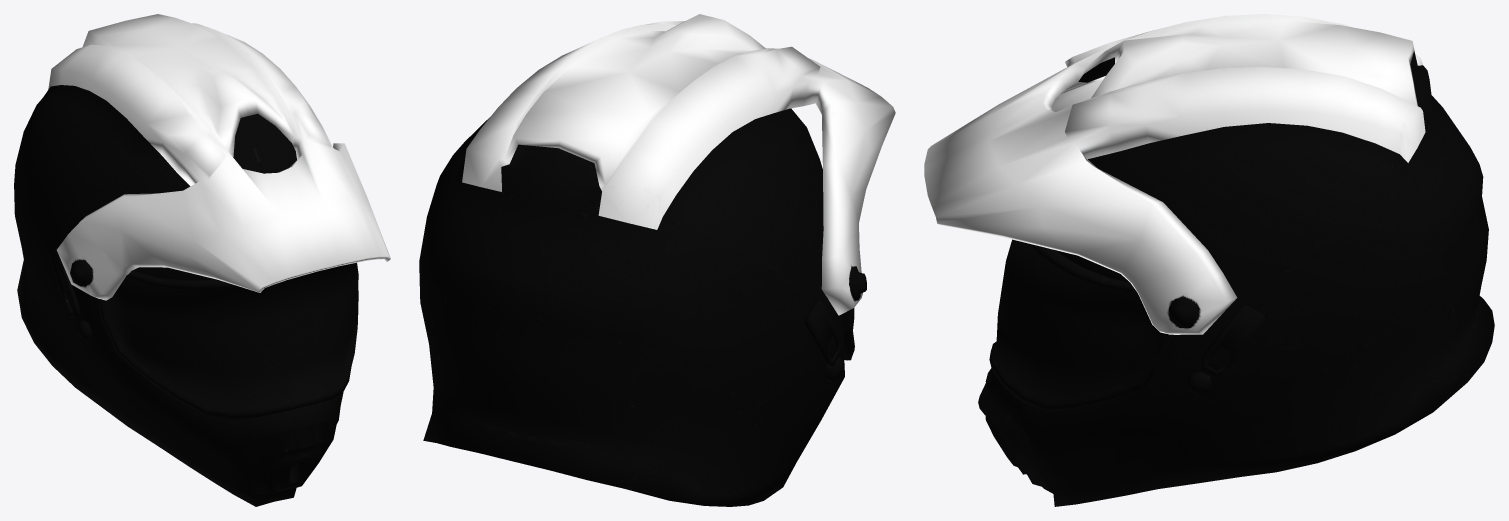
Rendered from SurvivorMale_Head_Helmet_MotoCross_LOD0.glb.
The picture shows the model from 3 angles, left to right: view 1: azimuth 30°, elevation 25°; view 2: azimuth 150°, elevation 25°; view 3: azimuth 270°, elevation 25°; orthographic projection. The views are drawn at different scales.
Parts seen in each view (by area): view 1: Hoodie; view 2: Hoodie; view 3: Hoodie.
Part boxes in pixels (x1,y1,x2,y2): Hoodie: (14,14,390,506); Hoodie: (419,14,895,506); Hoodie: (924,14,1494,506).
Bounding box in the file's own units: 0.2289 × 0.2876 × 0.3253.
1 material, 1 textured.
